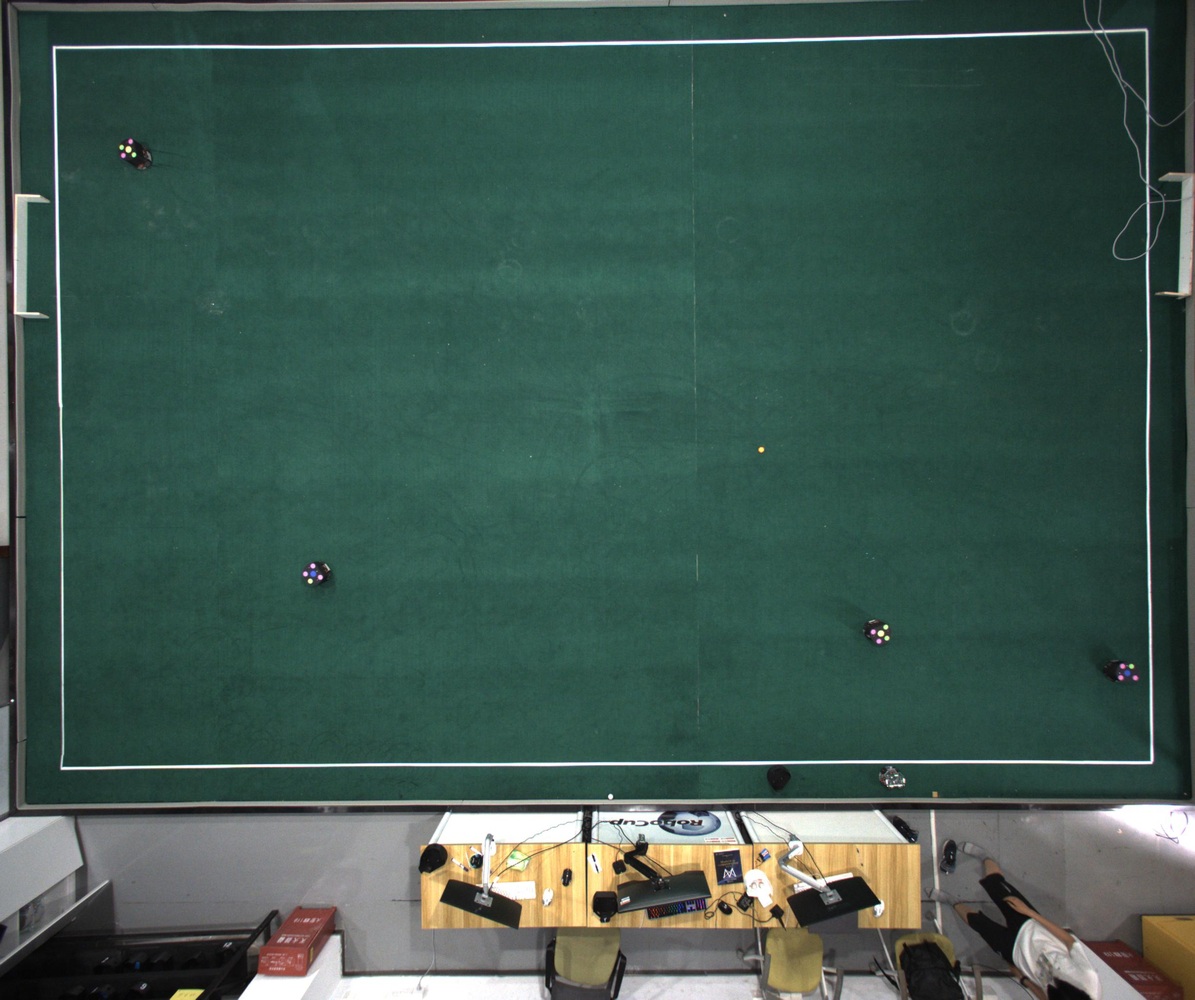ball: (757, 446, 765, 453)
blue_bot: (303, 562, 324, 586), (1115, 662, 1139, 683)
yellow_bot: (118, 138, 139, 161), (870, 624, 892, 645)
